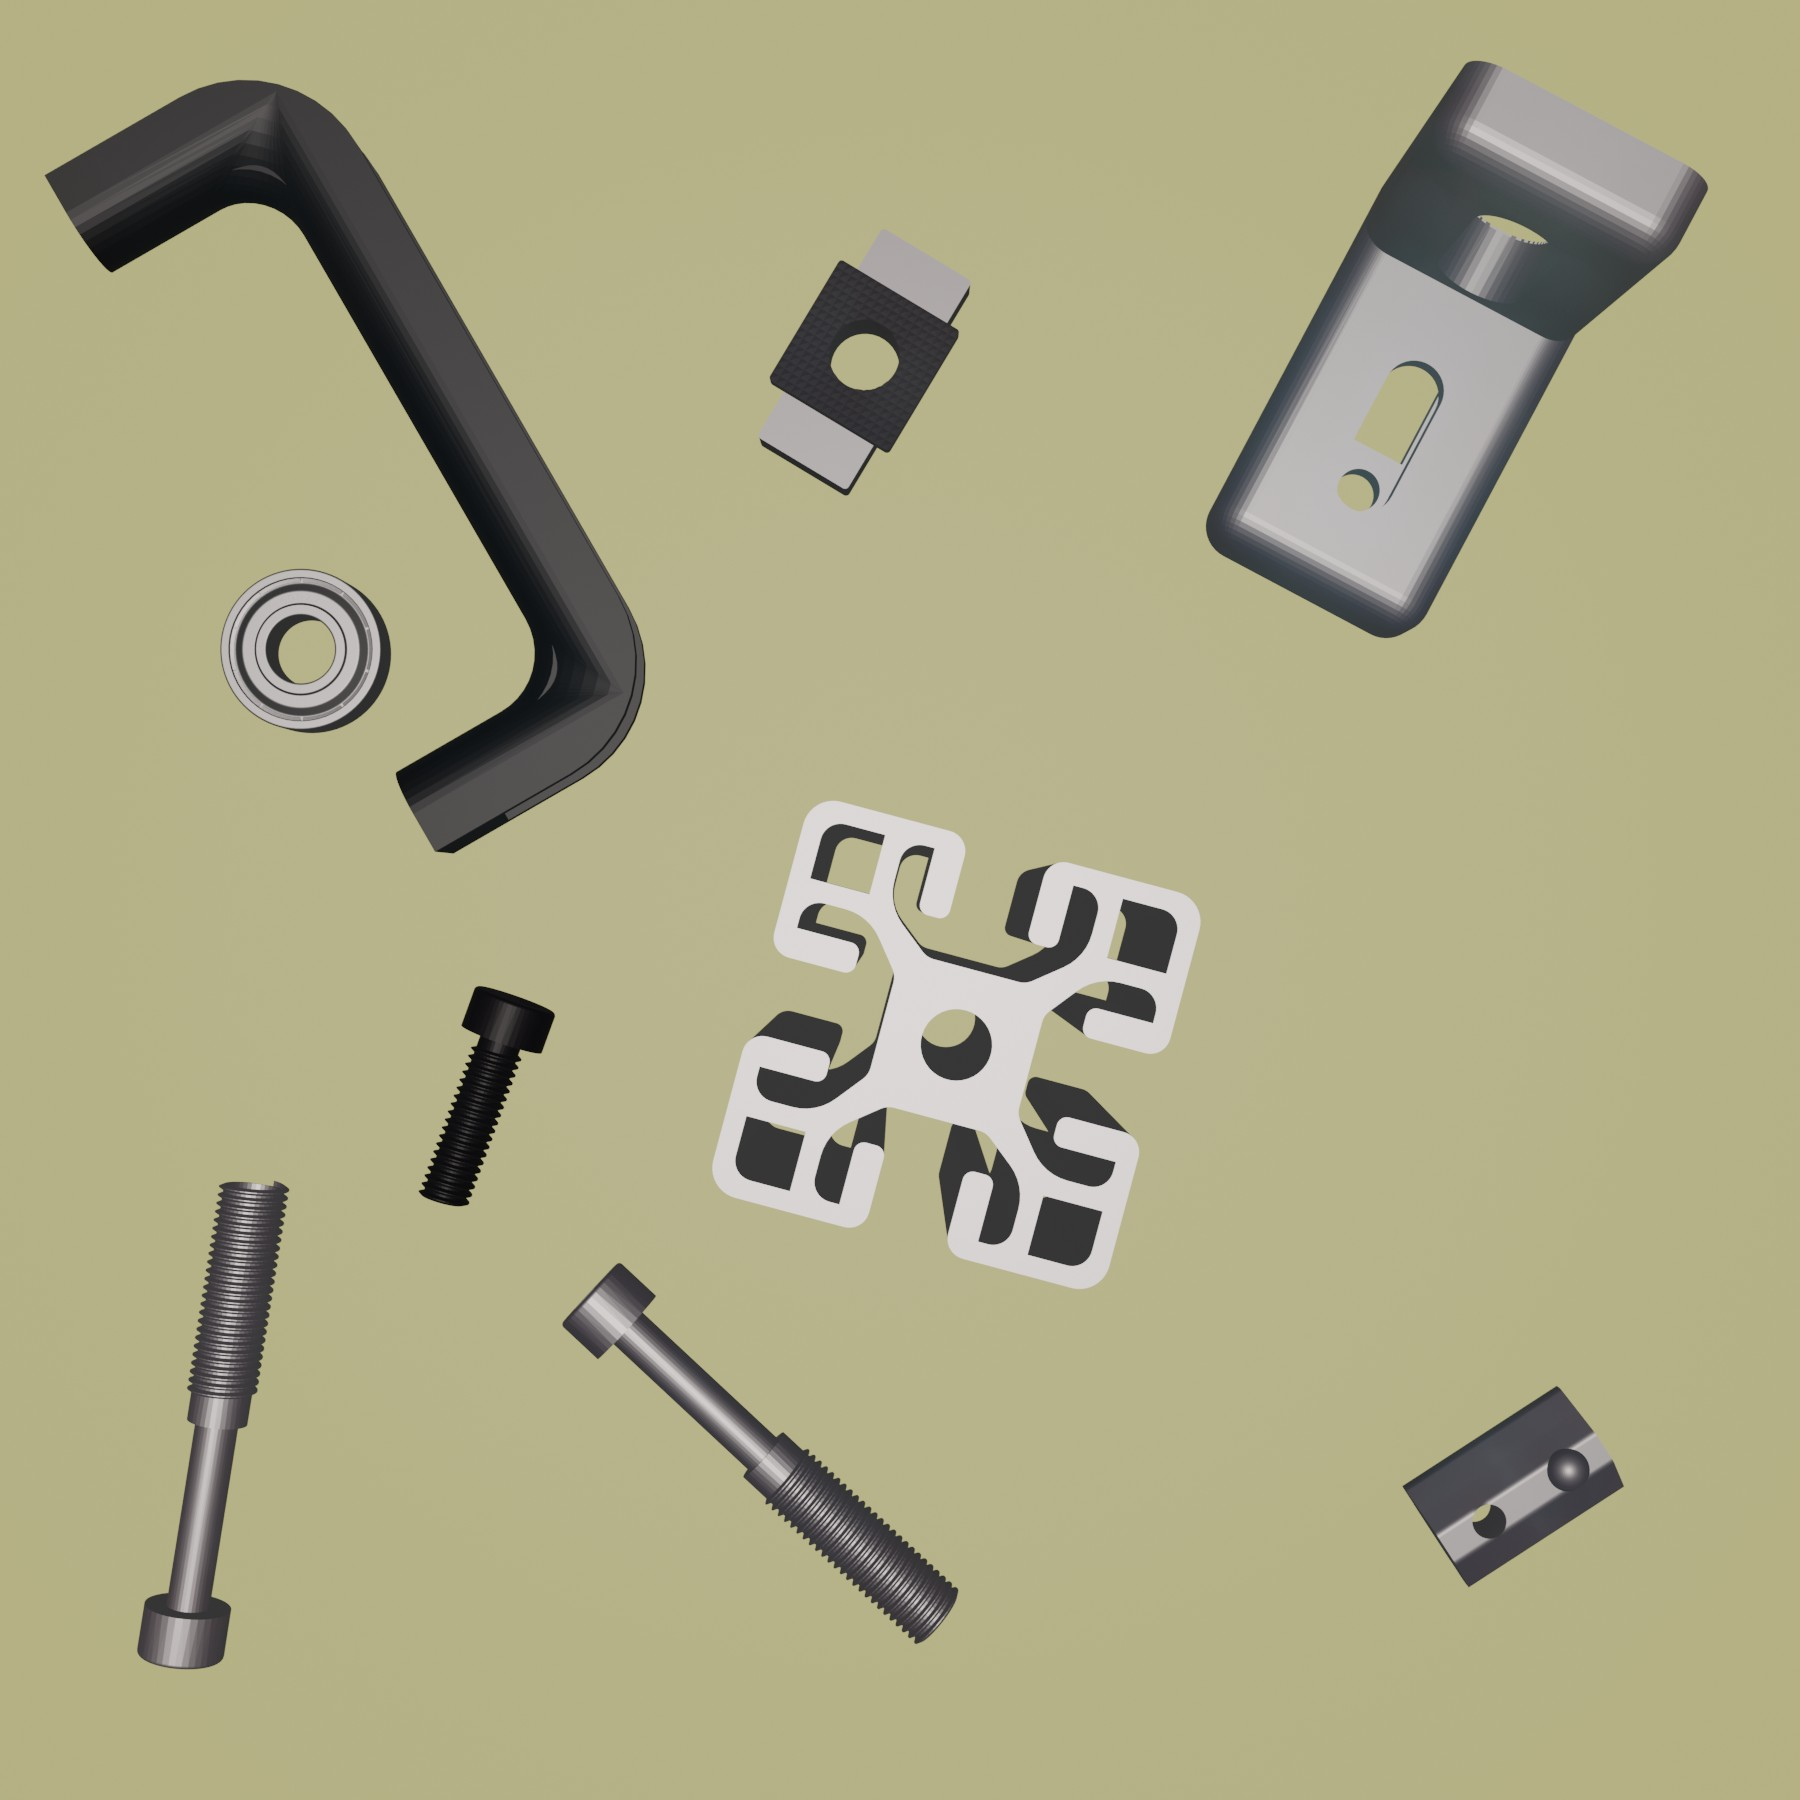Aluminium Extension: (710, 798, 1203, 1292)
Ball Bearing: (218, 569, 392, 737)
Multiwinkel: (1205, 58, 1713, 640)
Pull Handle: (40, 76, 648, 859)
Shoulder Socket Head Cap Screw: (560, 1264, 959, 1647), (137, 1174, 292, 1671)
Socket Head Cap Screw: (415, 984, 555, 1212)
T Nut Square: (755, 227, 974, 499)
T Spring Nut: (1398, 1388, 1625, 1589)
